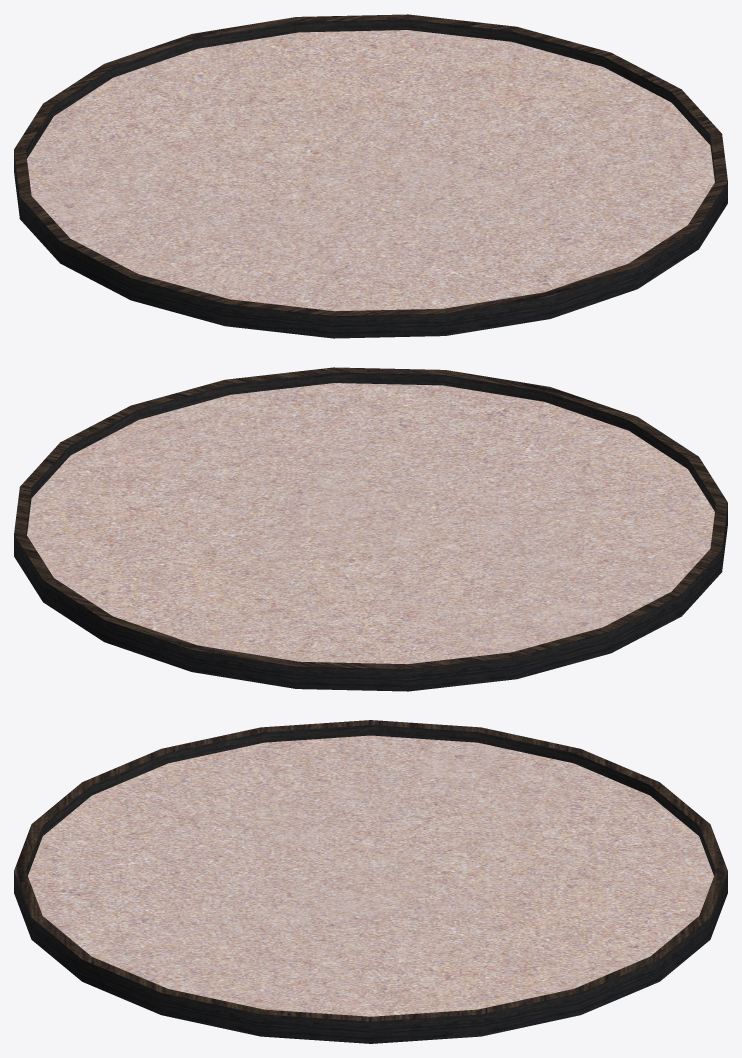
File: sandbox.fbx
3 views of the same model, one above another, from view 1: azimuth 30°, elevation 25°; view 2: azimuth 150°, elevation 25°; view 3: azimuth 270°, elevation 25° (orthographic).
Visible parts, largest first — view 1: pCylinder1; view 2: pCylinder1; view 3: pCylinder1.
Part boxes in pixels (<box>): pCylinder1: <box>14,14,727,338</box>; pCylinder1: <box>14,367,727,691</box>; pCylinder1: <box>14,720,727,1043</box>.
Bounding box in the file's own units: 11.48 × 0.3938 × 11.48.
1 material, 1 textured.
